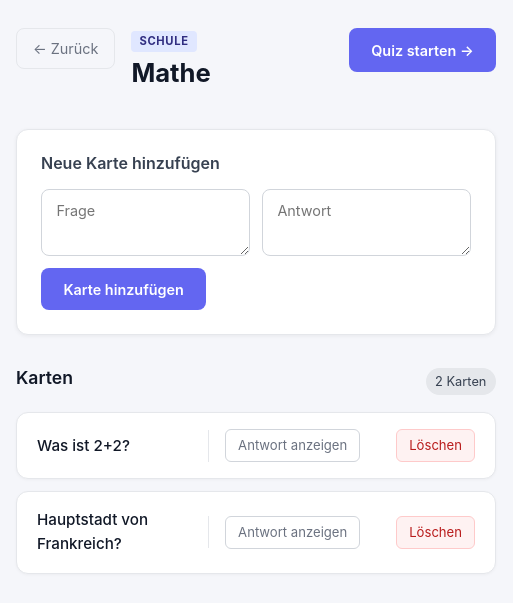
Test: DeckView › deckt Antwort nach Klick auf "Antwort anzeigen" auf
Expected: the text "4" is not shown
Click the button with class "btn-reveal" next to "Was ist 2+2?": (293, 446) [225,429,360,462]
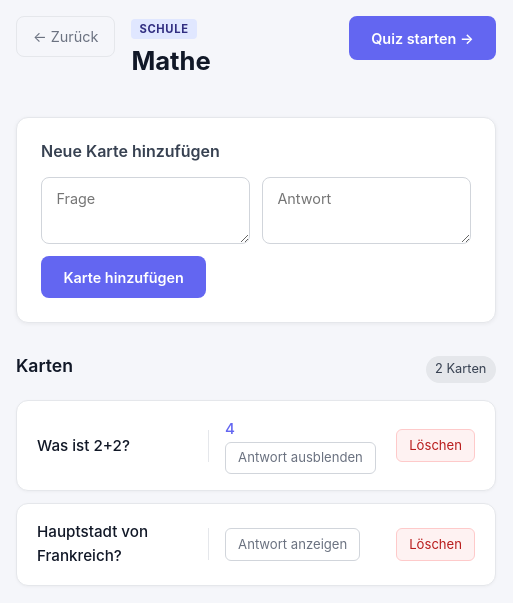
Expected: the text "4" is shown, [225,419,235,438]
